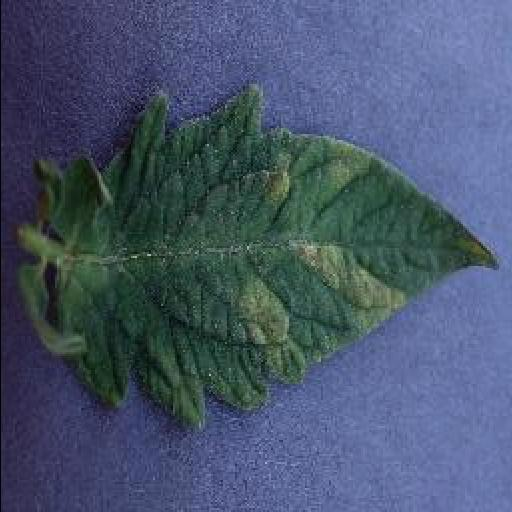disease_tomato: (20, 86, 498, 428)
